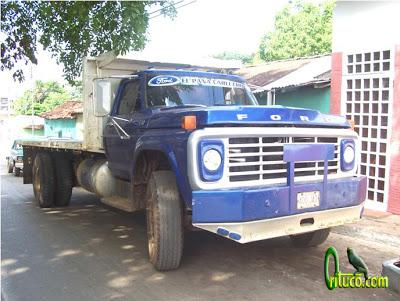truck: (15, 47, 368, 273)
